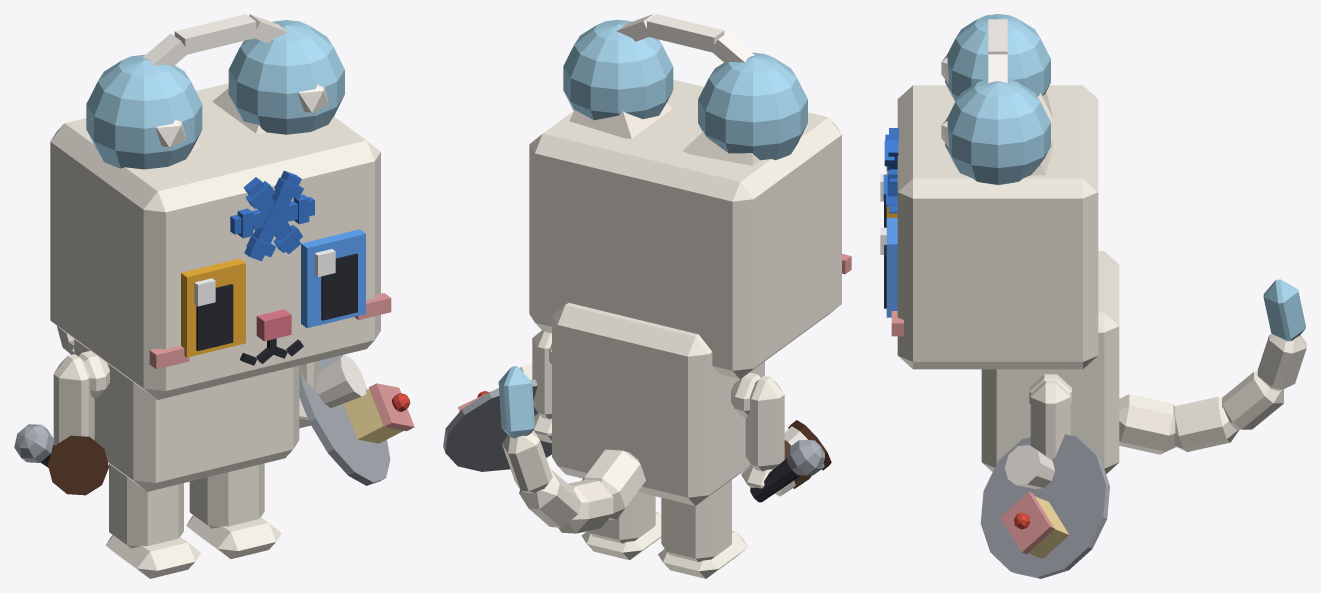
Rendered from CatCafe_Cat_Snow_Work.glb.
3 renders of one model, left to right at view 1: azimuth 30°, elevation 25°; view 2: azimuth 150°, elevation 25°; view 3: azimuth 270°, elevation 25°, orthographic. The views are drawn at different scales.
Parts seen in each view (by area): view 1: CatCafe_Cat_Snow_Work_Head, CatCafe_Cat_Snow_Work_Prop, CatCafe_Cat_Snow_Work_Body, CatCafe_Cat_Snow_Work_Held_Waiter, CatCafe_Cat_Snow_Work_LegB2, CatCafe_Cat_Snow_Work_LegB1, CatCafe_Cat_Snow_Work_Eye1, CatCafe_Cat_Snow_Work_Eye2, CatCafe_Cat_Snow_Work_LegF2, CatCafe_Cat_Snow_Work_Held_Barista, CatCafe_Cat_Snow_Work_Held_Entertainer, CatCafe_Cat_Snow_Work_LegF1 (+1 smaller); view 2: CatCafe_Cat_Snow_Work_Head, CatCafe_Cat_Snow_Work_Body, CatCafe_Cat_Snow_Work_Prop, CatCafe_Cat_Snow_Work_Tail, CatCafe_Cat_Snow_Work_LegB2, CatCafe_Cat_Snow_Work_Held_Waiter, CatCafe_Cat_Snow_Work_LegF2, CatCafe_Cat_Snow_Work_LegB1, CatCafe_Cat_Snow_Work_Held_Entertainer, CatCafe_Cat_Snow_Work_LegF1, CatCafe_Cat_Snow_Work_EarL, CatCafe_Cat_Snow_Work_EarR (+1 smaller); view 3: CatCafe_Cat_Snow_Work_Head, CatCafe_Cat_Snow_Work_Prop, CatCafe_Cat_Snow_Work_Held_Waiter, CatCafe_Cat_Snow_Work_Body, CatCafe_Cat_Snow_Work_Tail, CatCafe_Cat_Snow_Work_LegF1, CatCafe_Cat_Snow_Work_Eye1.
Part boxes in pixels (<box>): CatCafe_Cat_Snow_Work_Head: <box>50,83,391,399</box>; CatCafe_Cat_Snow_Work_Prop: <box>86,14,344,169</box>; CatCafe_Cat_Snow_Work_Body: <box>74,339,299,491</box>; CatCafe_Cat_Snow_Work_Held_Waiter: <box>299,355,414,485</box>; CatCafe_Cat_Snow_Work_LegB2: <box>105,464,200,578</box>; CatCafe_Cat_Snow_Work_LegB1: <box>186,463,281,558</box>; CatCafe_Cat_Snow_Work_Eye1: <box>301,229,365,328</box>; CatCafe_Cat_Snow_Work_Eye2: <box>181,258,245,357</box>; CatCafe_Cat_Snow_Work_LegF2: <box>53,354,94,445</box>; CatCafe_Cat_Snow_Work_Held_Barista: <box>47,435,108,495</box>; CatCafe_Cat_Snow_Work_Held_Entertainer: <box>14,424,54,467</box>; CatCafe_Cat_Snow_Work_LegF1: <box>299,360,319,428</box>; CatCafe_Cat_Snow_Work_Head: <box>529,79,851,379</box>; CatCafe_Cat_Snow_Work_Body: <box>549,302,764,505</box>; CatCafe_Cat_Snow_Work_Prop: <box>563,14,807,160</box>; CatCafe_Cat_Snow_Work_Tail: <box>498,366,645,533</box>; CatCafe_Cat_Snow_Work_LegB2: <box>658,480,747,578</box>; CatCafe_Cat_Snow_Work_Held_Waiter: <box>443,363,551,471</box>; CatCafe_Cat_Snow_Work_LegF2: <box>741,375,784,488</box>; CatCafe_Cat_Snow_Work_LegB1: <box>581,492,661,560</box>; CatCafe_Cat_Snow_Work_Held_Entertainer: <box>750,440,824,502</box>; CatCafe_Cat_Snow_Work_LegF1: <box>532,330,551,443</box>; CatCafe_Cat_Snow_Work_EarL: <box>569,103,672,138</box>; CatCafe_Cat_Snow_Work_EarR: <box>682,131,759,165</box>; CatCafe_Cat_Snow_Work_Head: <box>883,85,1098,369</box>; CatCafe_Cat_Snow_Work_Prop: <box>941,14,1050,185</box>; CatCafe_Cat_Snow_Work_Held_Waiter: <box>980,434,1109,578</box>; CatCafe_Cat_Snow_Work_Body: <box>981,251,1119,473</box>; CatCafe_Cat_Snow_Work_Tail: <box>1119,279,1306,454</box>; CatCafe_Cat_Snow_Work_LegF1: <box>1030,380,1070,460</box>; CatCafe_Cat_Snow_Work_Eye1: <box>880,218,897,317</box>.
Bounding box in the file's own units: 1.53 × 2.07 × 1.62.
1 material, 1 textured.
